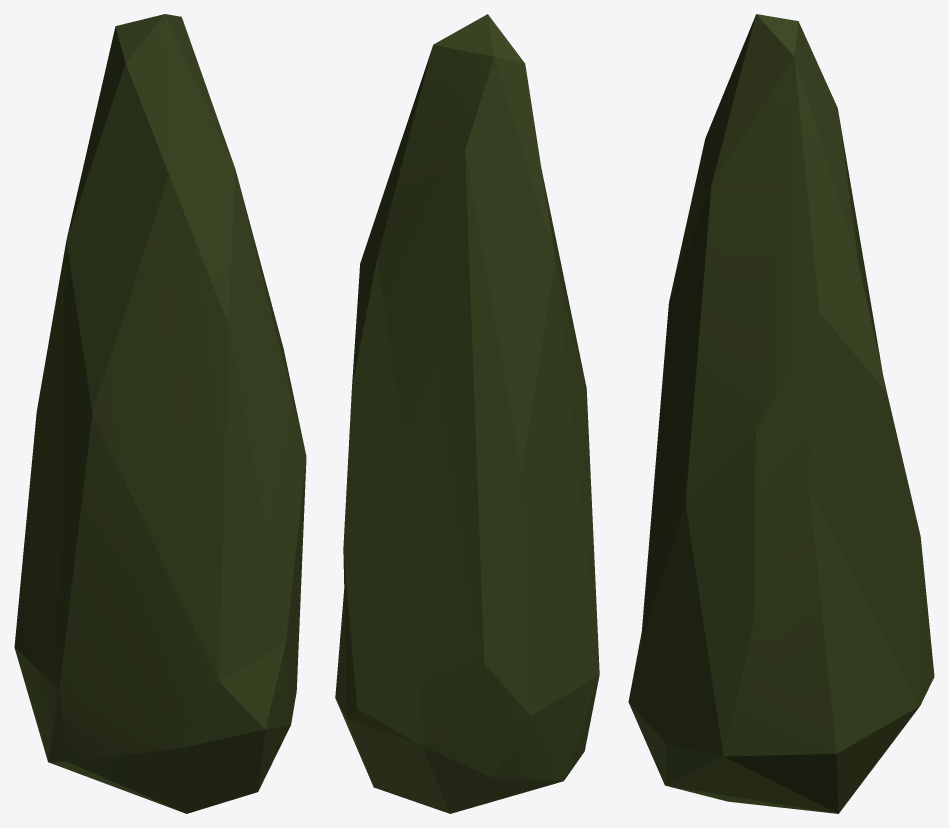
File: JuniperC.fbx
The picture shows the model from 3 angles, left to right: view 1: azimuth 30°, elevation 25°; view 2: azimuth 150°, elevation 25°; view 3: azimuth 270°, elevation 25°; orthographic projection.
Visible parts, largest first — view 1: JuniperC; view 2: JuniperC; view 3: JuniperC.
Boxes of the visible parts, x1,y1,x2,y2 form: JuniperC: [14, 14, 306, 813]; JuniperC: [335, 14, 599, 813]; JuniperC: [628, 14, 934, 813].
Bounding box in the file's own units: 173 × 573 × 203.
